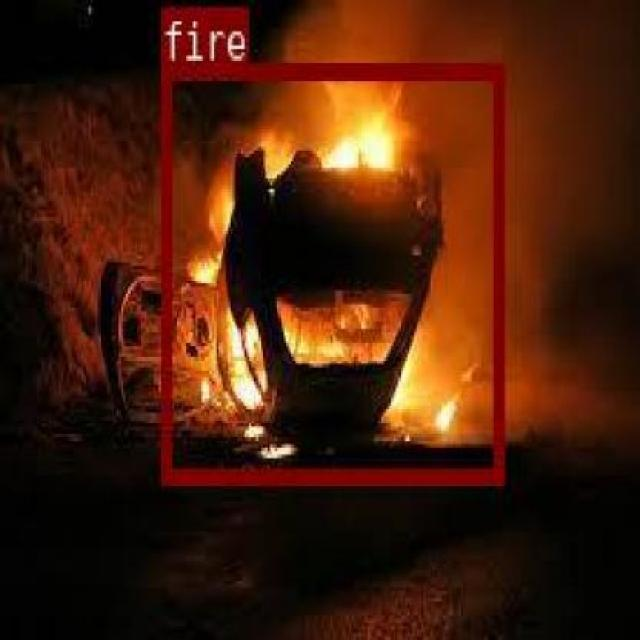fire: (160, 61, 502, 482)
